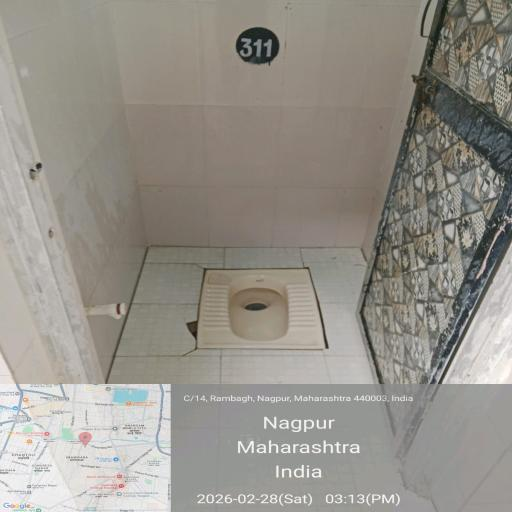clean_floor: (131, 239, 465, 500), (21, 41, 455, 180)
clean_indian: (195, 245, 341, 353)
